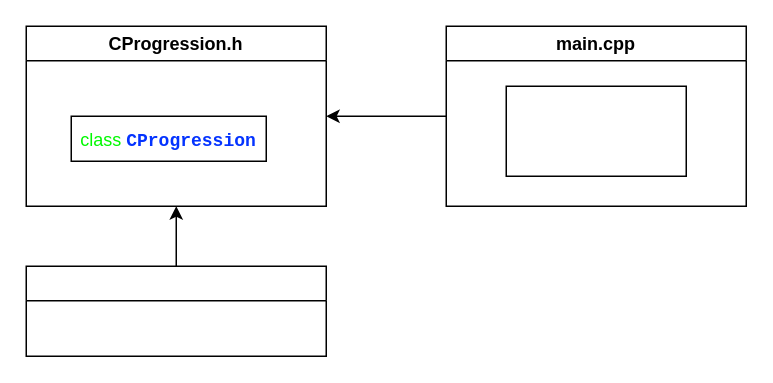
Image size: 773x383. Some labels were removed from this diagram. The centre of each missing label's shape, as x and y in pixels:
"CProgression.cpp" goes at pixel 175 310.
"main()" goes at pixel 595 130.
